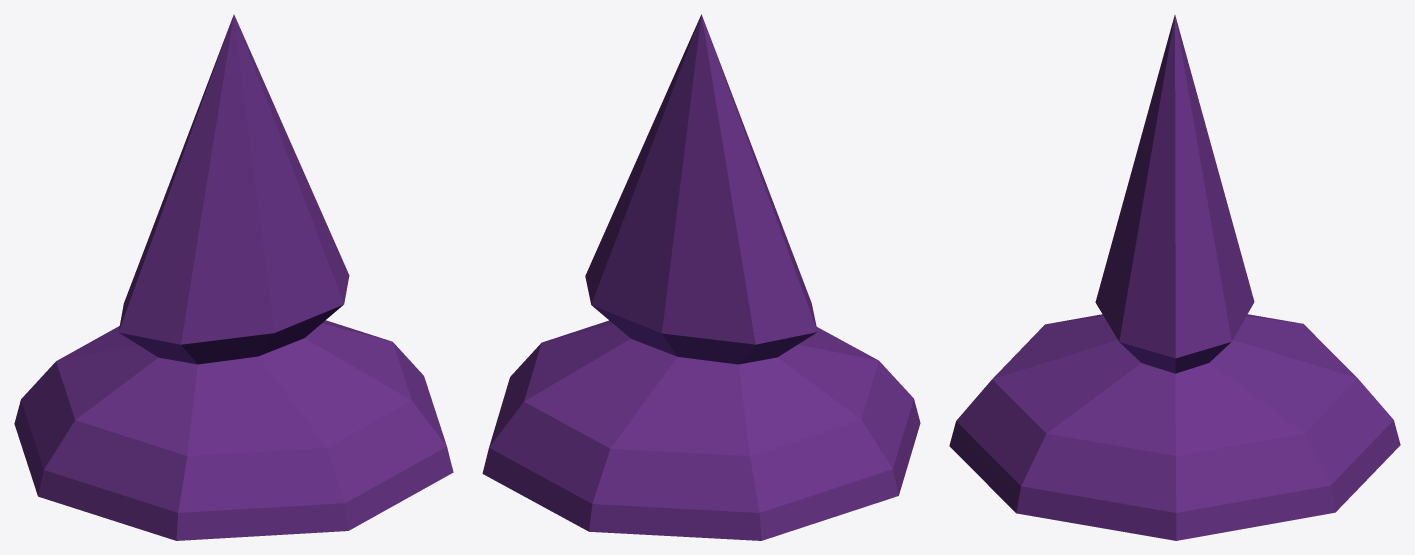
The picture shows the model from 3 angles, left to right: view 1: azimuth 30°, elevation 25°; view 2: azimuth 150°, elevation 25°; view 3: azimuth 270°, elevation 25°; orthographic projection.
Parts seen in each view (by area): view 1: v_01; view 2: v_01; view 3: v_01.
Part boxes in pixels (x1=…): v_01: x1=14, y1=14, x2=453, y2=540; v_01: x1=482, y1=14, x2=920, y2=540; v_01: x1=949, y1=15, x2=1400, y2=540.
Bounding box in the file's own units: 0.3533 × 0.3728 × 0.3533.
Materials: 1 (1 with a texture image).
